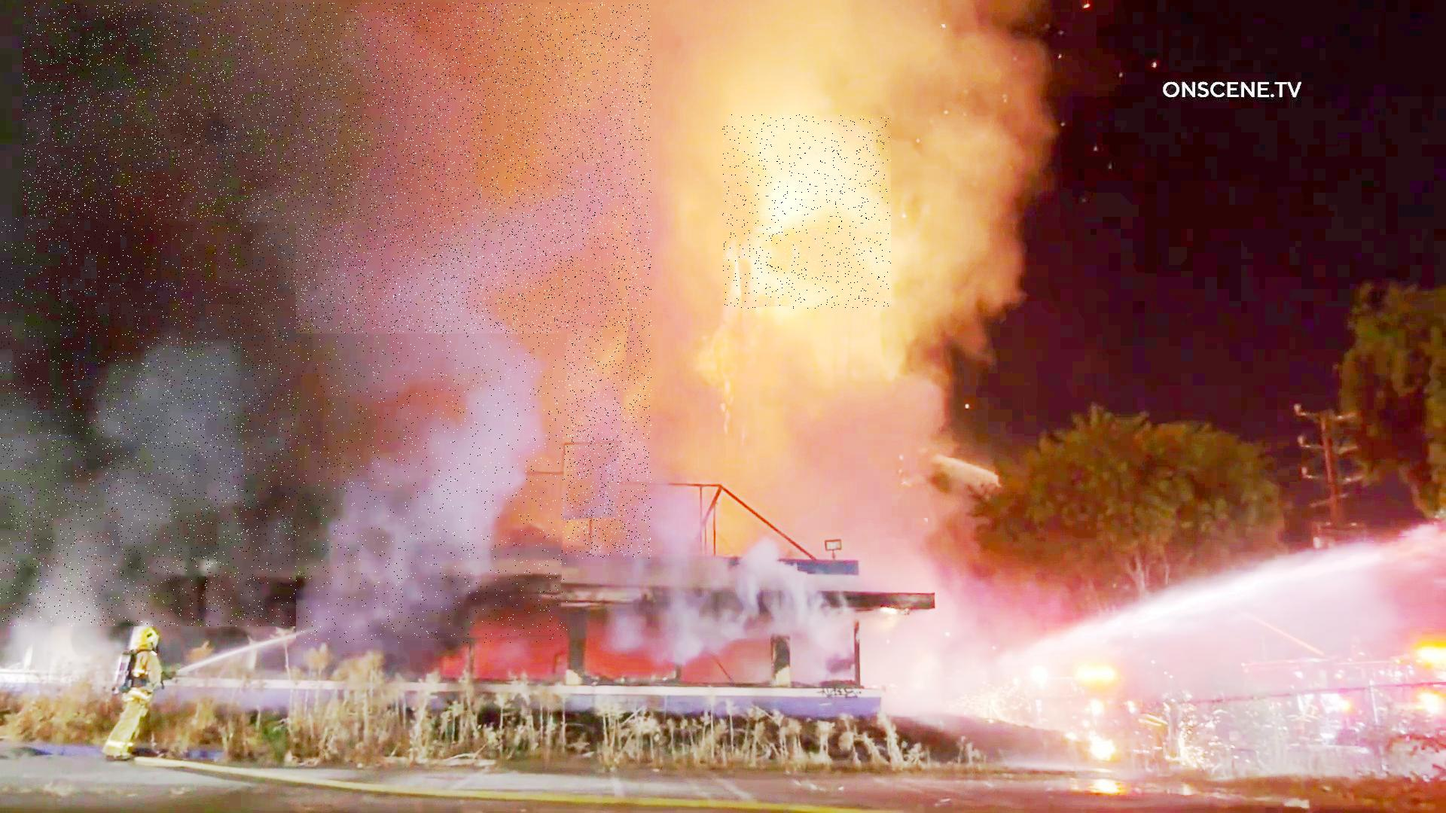fire: (722, 115, 891, 309)
smoke: (23, 2, 652, 559), (0, 219, 296, 627), (296, 334, 567, 643)
